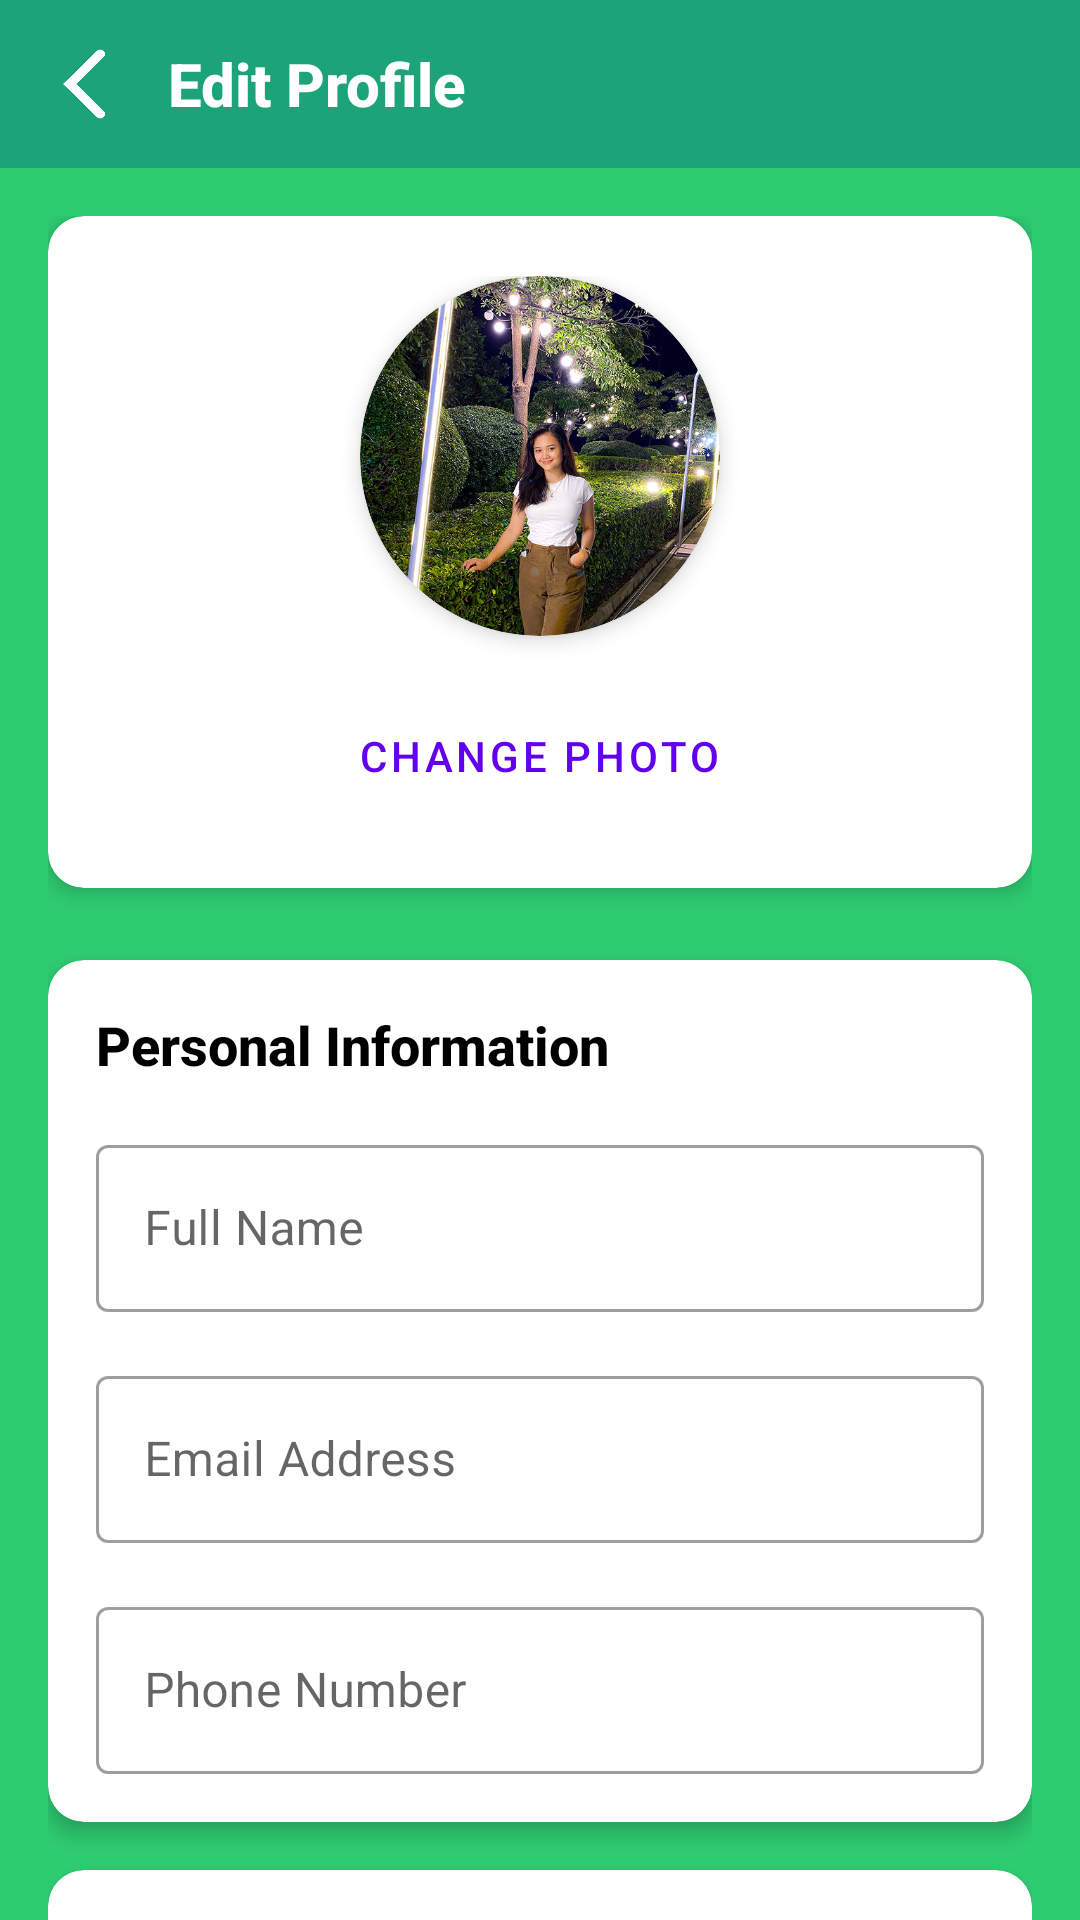

Named icons in this screenshot (1080×1920) and their centers, point (x, y):
Back: point (84, 84)
Profile picture: point (540, 456)
